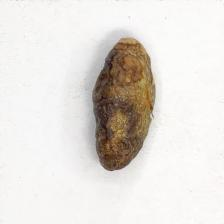NG: (95, 36, 155, 172)
